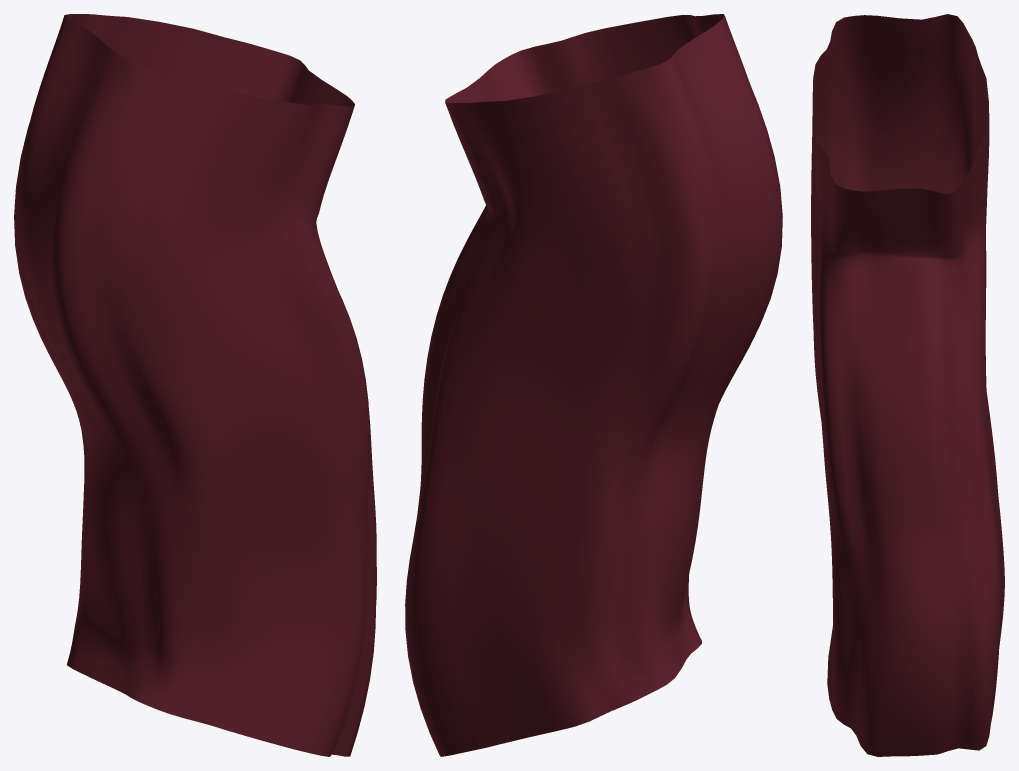
The model's file is organic_vessel_foundation.glb.
The picture shows the model from 3 angles, left to right: view 1: azimuth 30°, elevation 25°; view 2: azimuth 150°, elevation 25°; view 3: azimuth 270°, elevation 25°; orthographic projection. The views are drawn at different scales.
Parts seen in each view (by area): view 1: OrganicVesselFoundation; view 2: OrganicVesselFoundation; view 3: OrganicVesselFoundation.
Boxes of the visible parts, <box> form: OrganicVesselFoundation: <box>14,14,376,756</box>; OrganicVesselFoundation: <box>405,14,782,756</box>; OrganicVesselFoundation: <box>811,14,1004,756</box>.
Bounding box in the file's own units: 22.86 × 48.82 × 13.28.
